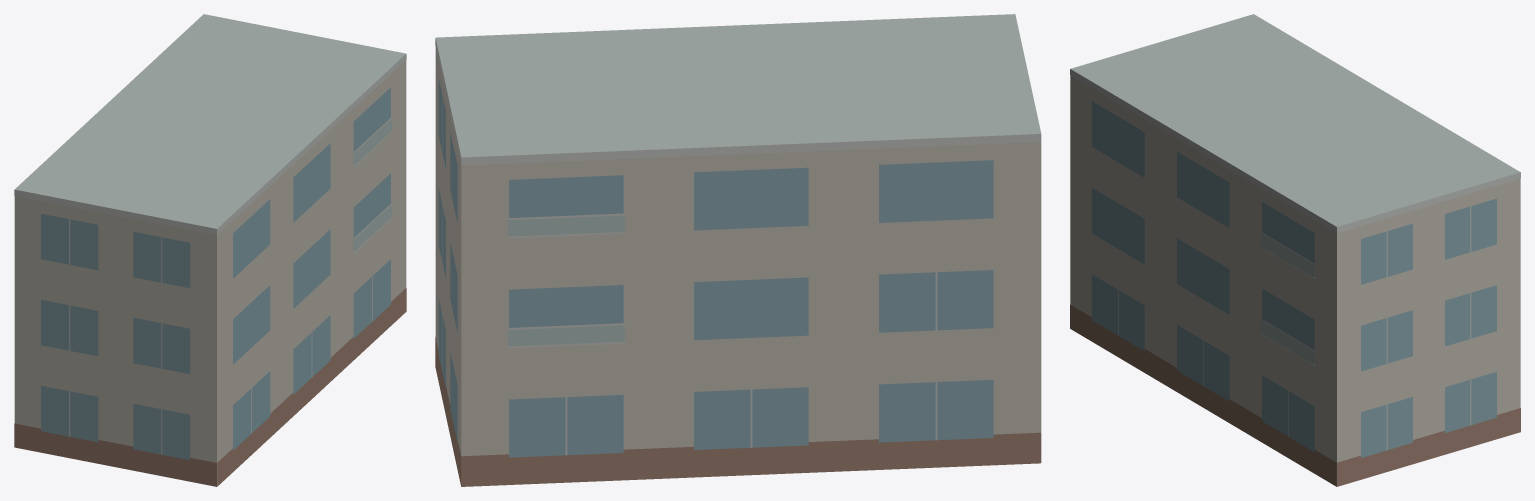
The model's file is survey-upis-32973207.glb.
3 renders of one model, left to right at view 1: azimuth 30°, elevation 25°; view 2: azimuth 150°, elevation 25°; view 3: azimuth 270°, elevation 25°, orthographic. The views are drawn at different scales.
Parts seen in each view (by area): view 1: survey-upis-32973207.tmp; view 2: survey-upis-32973207.tmp; view 3: survey-upis-32973207.tmp.
Boxes of the visible parts, box(x1,y1,x2,y2) form: survey-upis-32973207.tmp: box(14, 14, 406, 486); survey-upis-32973207.tmp: box(435, 14, 1041, 486); survey-upis-32973207.tmp: box(1070, 14, 1520, 486).
Size of the model in its own units: 17.76 by 10.1 by 15.88.
